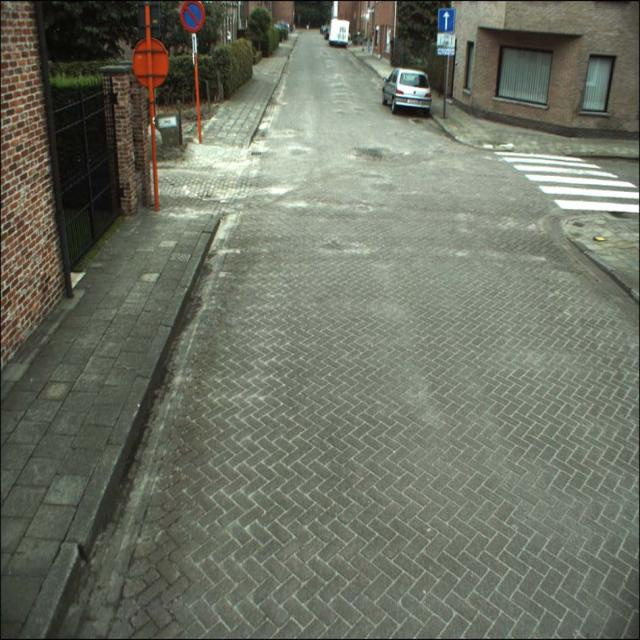parkyasak: (180, 0, 205, 32)
